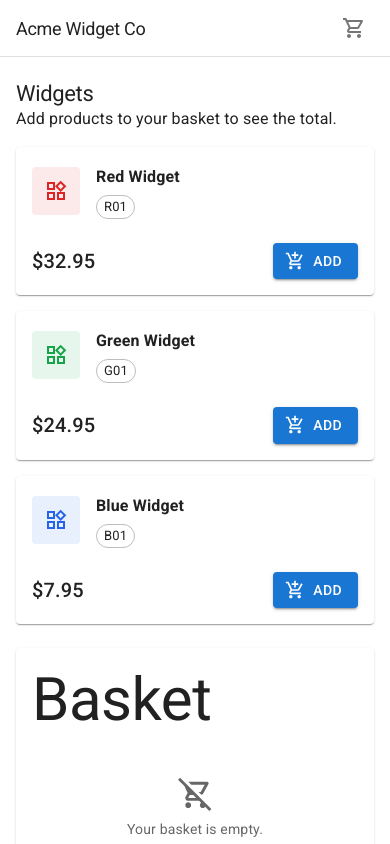
BasketPage › shows the mobile basket bar with the total once the basket has items
Click the button "Add" in the row of "$32.95": (316, 261) [273,243,358,279]
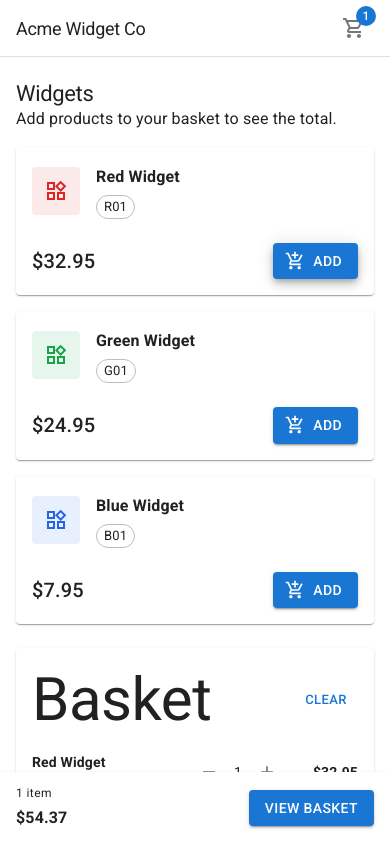
Result: the text "1 item" is shown at [16,786,52,800]
Result: the button "View basket" is shown at [249,790,374,826]
